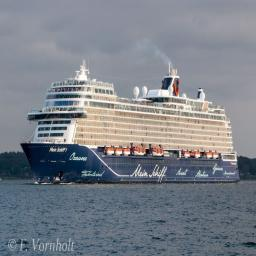cruises: (21, 51, 245, 187)
